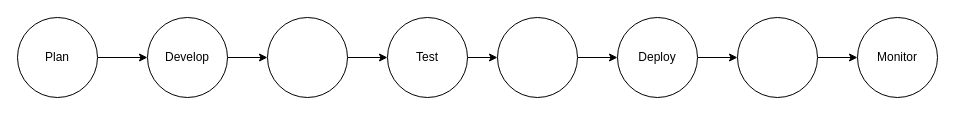
This 955x115 diagram has some shape labels left out. Here are the shapes that lost their labels. From the top down, the centre of each, then its label:
At [307,57]: "Built".
At [537,57]: "Relase".
At [777,57]: "Operate".
